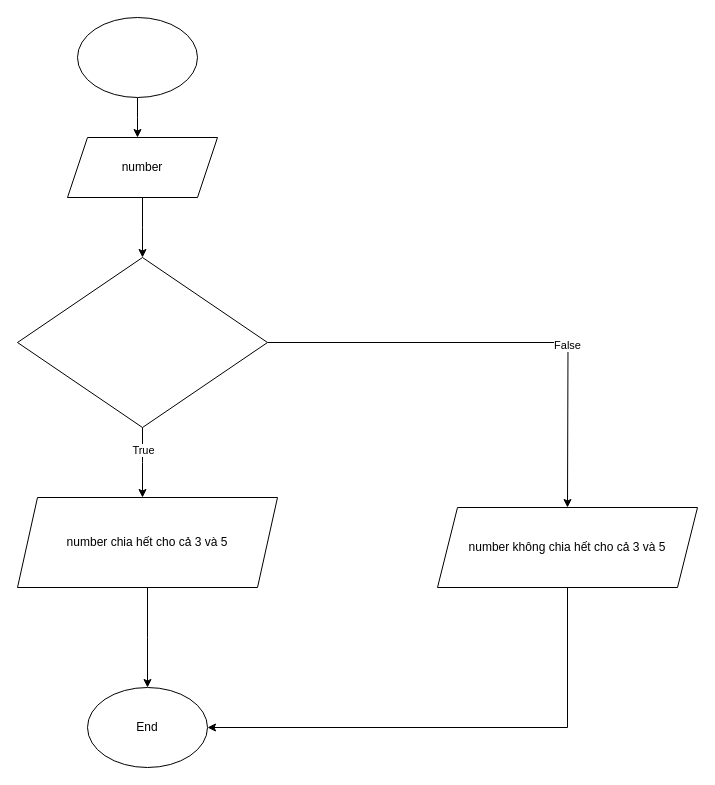
This 715x785 diagram has some shape labels left out. Each missing label, with the centre of its shape:
number%3 = 0 và number%5 = 0: the point at 142,342
Start: the point at 137,57
